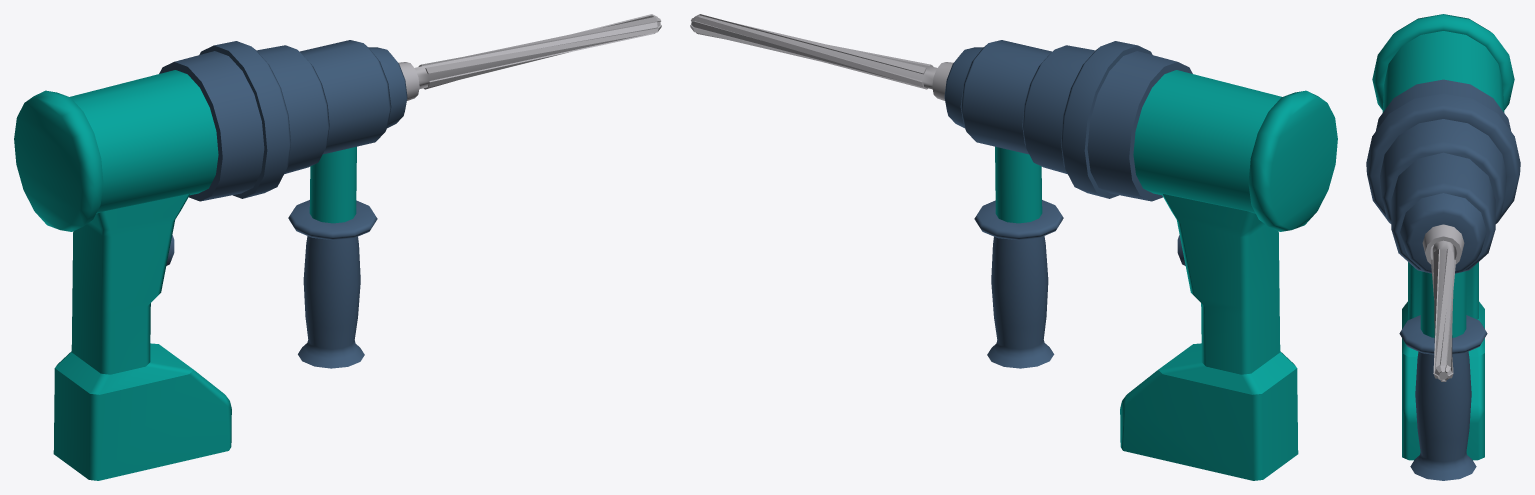
The model's file is Perforator.fbx.
The picture shows the model from 3 angles, left to right: view 1: azimuth 30°, elevation 25°; view 2: azimuth 150°, elevation 25°; view 3: azimuth 270°, elevation 25°; orthographic projection.
Visible parts, largest first — view 1: Perforator; view 2: Perforator; view 3: Perforator.
Part boxes in pixels (bbox=[...]): Perforator: bbox=[14, 14, 661, 480]; Perforator: bbox=[690, 14, 1337, 480]; Perforator: bbox=[1366, 14, 1520, 480].
Bounding box in the file's own units: 92.91 × 20.6 × 55.05.
